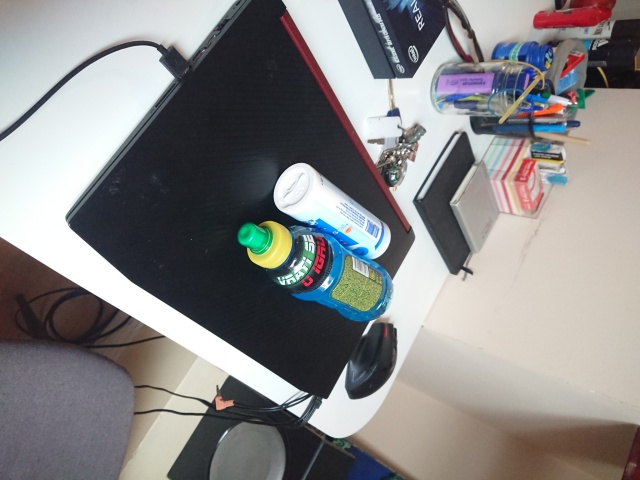Solana Pag Fine Sea Salt 250g: (271, 160, 393, 262)
Vindi Iso Sport Forest Strawberries 500mL: (236, 219, 395, 324)
